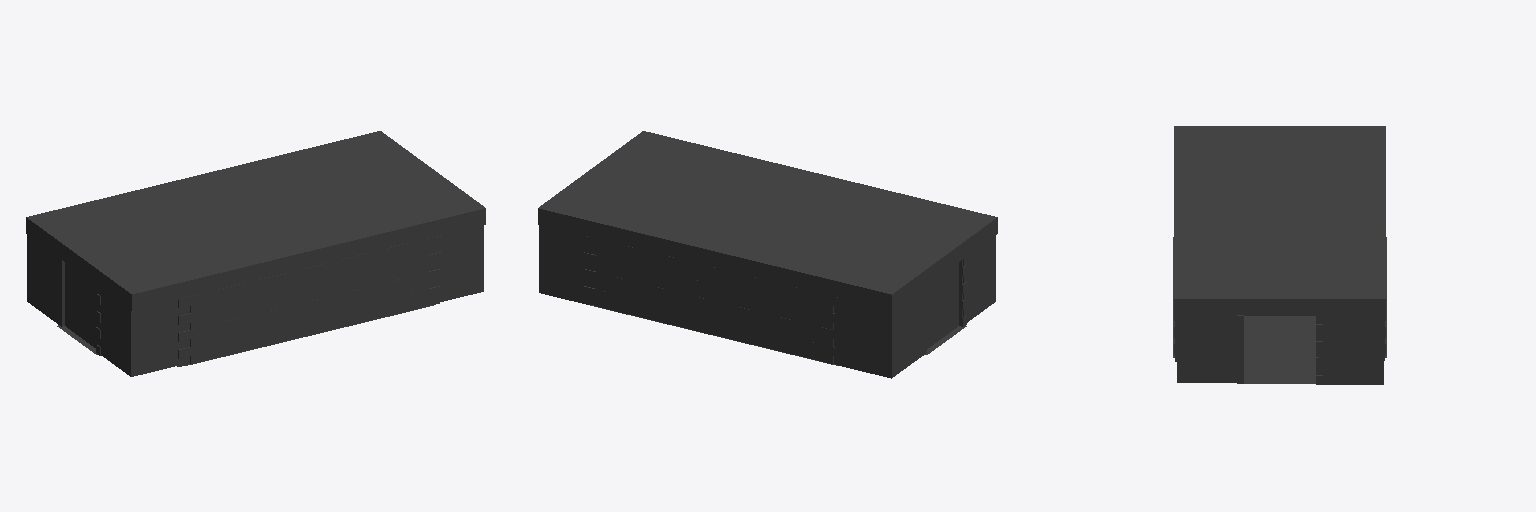
The model's file is cave2.obj.
3 views of the same model, side by side, from view 1: azimuth 30°, elevation 25°; view 2: azimuth 150°, elevation 25°; view 3: azimuth 270°, elevation 25° (orthographic).
Visible parts, largest first — view 1: Cube.005, Cube.081, Cube.001, Cube.003, Cube.002, Cube.004, Plane.002; view 2: Cube.005, Cube.081, Cube.001, Cube.004, Cube, Cube.003, Plane.002; view 3: Cube.005, Plane, Cube, Cube.002, Cube.081.
Boxes of the visible parts, x1=… form: Cube.005: x1=26, y1=131, x2=485, y2=310; Cube.081: x1=58, y1=269, x2=440, y2=366; Cube.001: x1=58, y1=235, x2=440, y2=332; Cube.003: x1=98, y1=287, x2=177, y2=376; Cube.002: x1=440, y1=225, x2=483, y2=301; Cube.004: x1=27, y1=235, x2=57, y2=323; Plane.002: x1=65, y1=263, x2=97, y2=347; Cube.005: x1=538, y1=131, x2=997, y2=310; Cube.081: x1=584, y1=269, x2=966, y2=364; Cube.001: x1=584, y1=236, x2=966, y2=329; Cube.004: x1=835, y1=289, x2=922, y2=378; Cube: x1=539, y1=225, x2=587, y2=304; Cube.003: x1=963, y1=236, x2=995, y2=322; Plane.002: x1=927, y1=263, x2=958, y2=348; Cube.005: x1=1174, y1=126, x2=1385, y2=315; Plane: x1=1173, y1=237, x2=1386, y2=383; Cube: x1=1319, y1=316, x2=1383, y2=384; Cube.002: x1=1177, y1=316, x2=1236, y2=382; Cube.081: x1=1174, y1=321, x2=1385, y2=384.
Bounding box in the file's own units: 117 × 26.95 × 60.26.